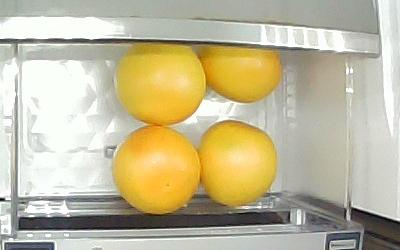grapefruit: (113, 125, 200, 214), (116, 46, 205, 127), (196, 120, 277, 206), (200, 47, 282, 104)
